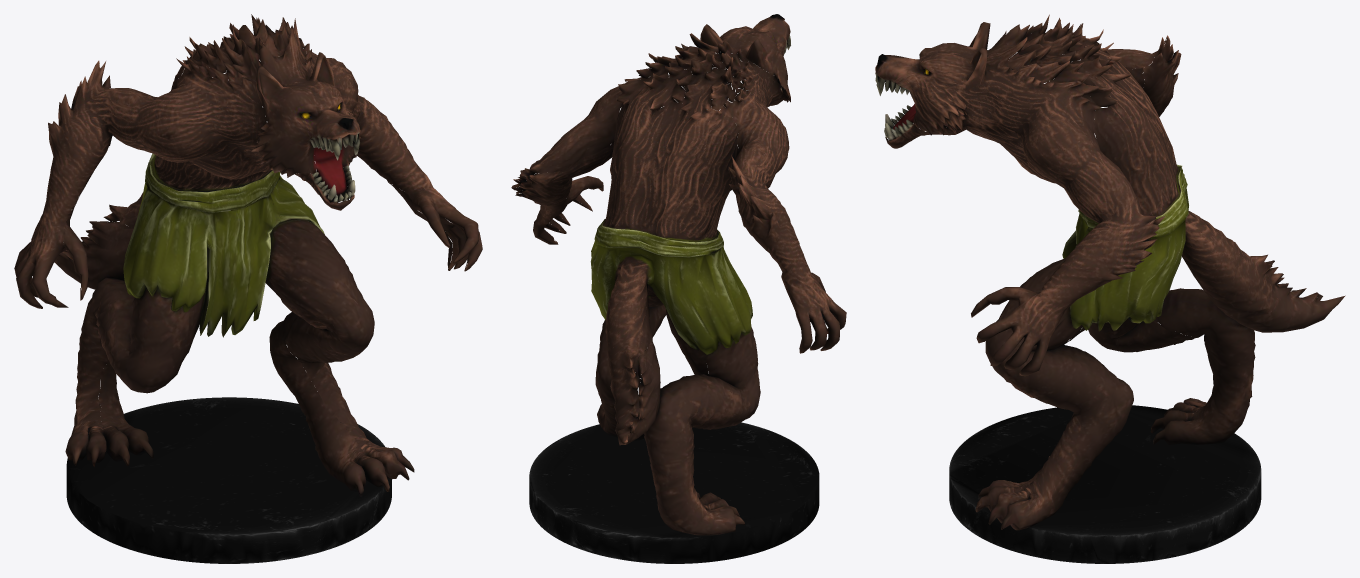
The model's file is MZ4250 - Werewolf.glb.
3 views of the same model, side by side, from view 1: azimuth 30°, elevation 25°; view 2: azimuth 150°, elevation 25°; view 3: azimuth 270°, elevation 25° (orthographic). The views are drawn at different scales.
Visible parts, largest first — view 1: Body.001_Body.001, Medium_Creature.001; view 2: Body.001_Body.001, Medium_Creature.001; view 3: Body.001_Body.001, Medium_Creature.001.
Part boxes in pixels (x1,y1,x2,y2): Body.001_Body.001: (14,14,482,496); Medium_Creature.001: (66,397,391,563); Body.001_Body.001: (511,14,846,535); Medium_Creature.001: (529,422,819,563); Body.001_Body.001: (875,14,1345,530); Medium_Creature.001: (949,405,1261,563).
Size of the model in its own units: 5.5 by 6.48 by 5.86.
Materials: 1 (1 with a texture image).
